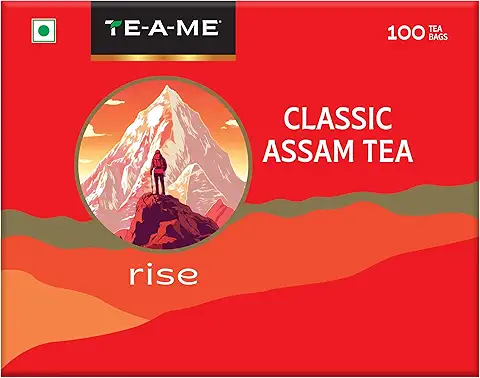Tea: (3, 2, 480, 377)
